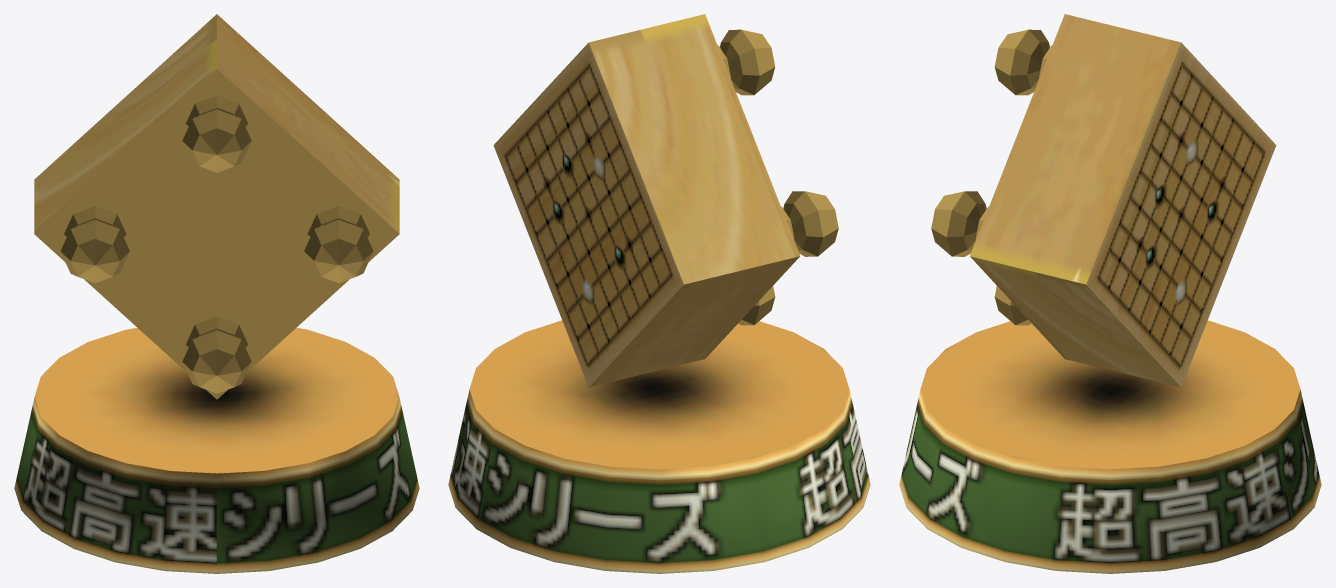
The model's file is ig_00.ico.obj.
3 views of the same model, side by side, from view 1: azimuth 30°, elevation 25°; view 2: azimuth 150°, elevation 25°; view 3: azimuth 270°, elevation 25° (orthographic). The views are drawn at different scales.
Size of the model in its own units: 3.91 by 4.69 by 3.91.
1 material, 1 textured.
